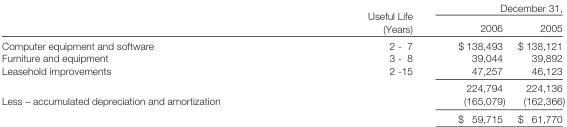table: (1, 0, 564, 123)
table column: (1, 0, 293, 123), (293, 0, 434, 123), (434, 0, 510, 123), (510, 0, 564, 123)
table column header: (1, 0, 564, 36)
table row: (1, 16, 564, 36), (1, 0, 564, 16), (1, 93, 564, 109), (1, 36, 564, 51), (1, 63, 564, 78), (1, 78, 564, 93), (1, 109, 564, 123), (1, 51, 564, 63)
table spanning cell: (293, 0, 434, 36), (434, 0, 564, 16)
